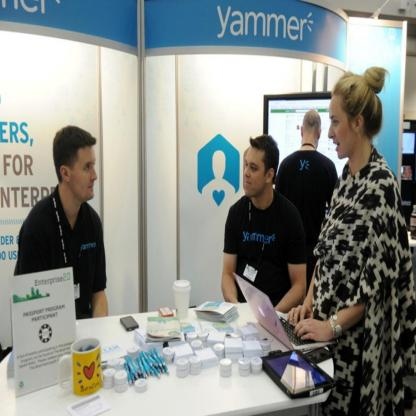board: (233, 268, 334, 354), (174, 280, 191, 320)
